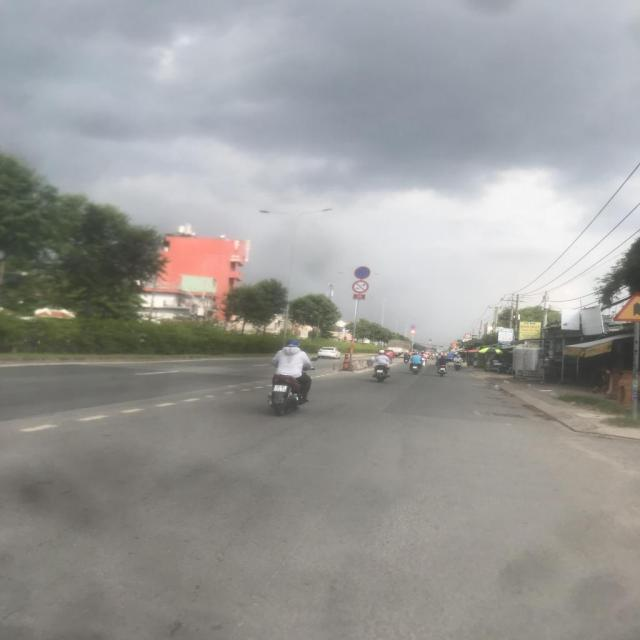cam_dung_xe_va_do_xe: (354, 266, 371, 280), (411, 325, 416, 329)
cam_o_to_tai_va_xe_khach: (464, 334, 472, 338)
cam_xe_2_banh_va_xe_3_banh_co_dong_co: (352, 281, 369, 294), (411, 329, 416, 334)
giao_nhau_voi_duong_khong_uu_tien: (611, 290, 639, 322)
